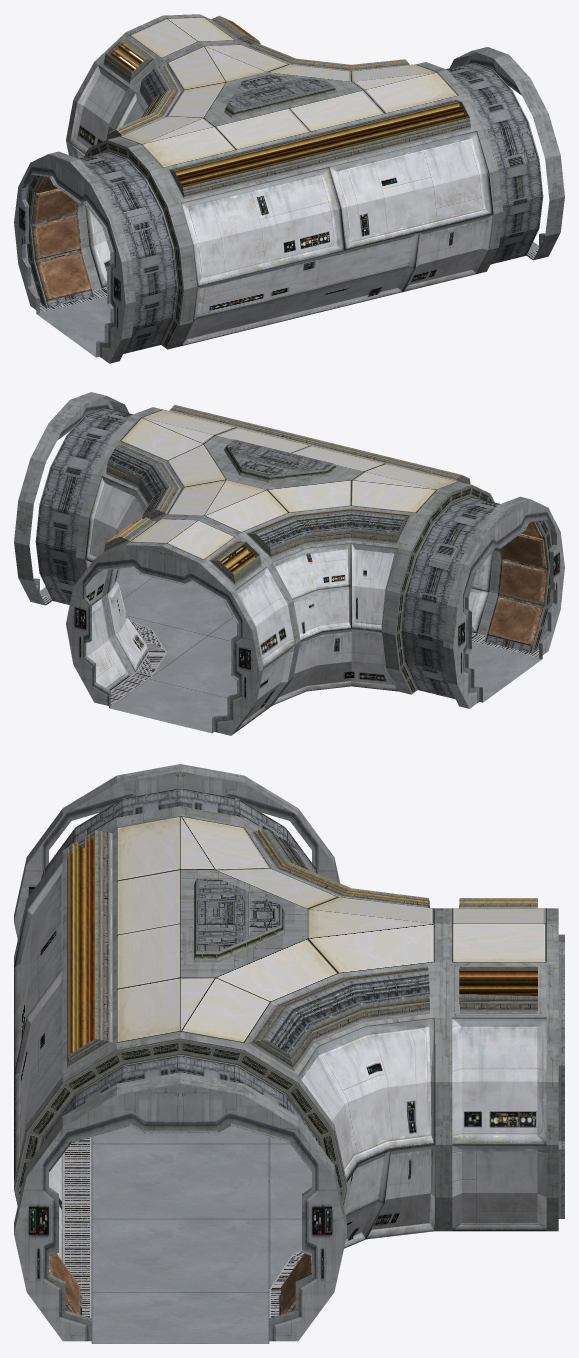
The model's file is poi_all_rebl_bunker_s01_r8_hallway2_mesh_r8.fbx.
3 views of the same model, one above another, from view 1: azimuth 30°, elevation 25°; view 2: azimuth 150°, elevation 25°; view 3: azimuth 270°, elevation 25° (orthographic). The views are drawn at different scales.
Parts seen in each view (by area): view 1: mesh_node; view 2: mesh_node; view 3: mesh_node.
Part boxes in pixels (box(x1,y1,x2,y2)): mesh_node: box(14, 14, 564, 363); mesh_node: box(14, 392, 564, 735); mesh_node: box(14, 764, 564, 1343).
Bounding box in the file's own units: 12 × 4.59 × 8.6.
